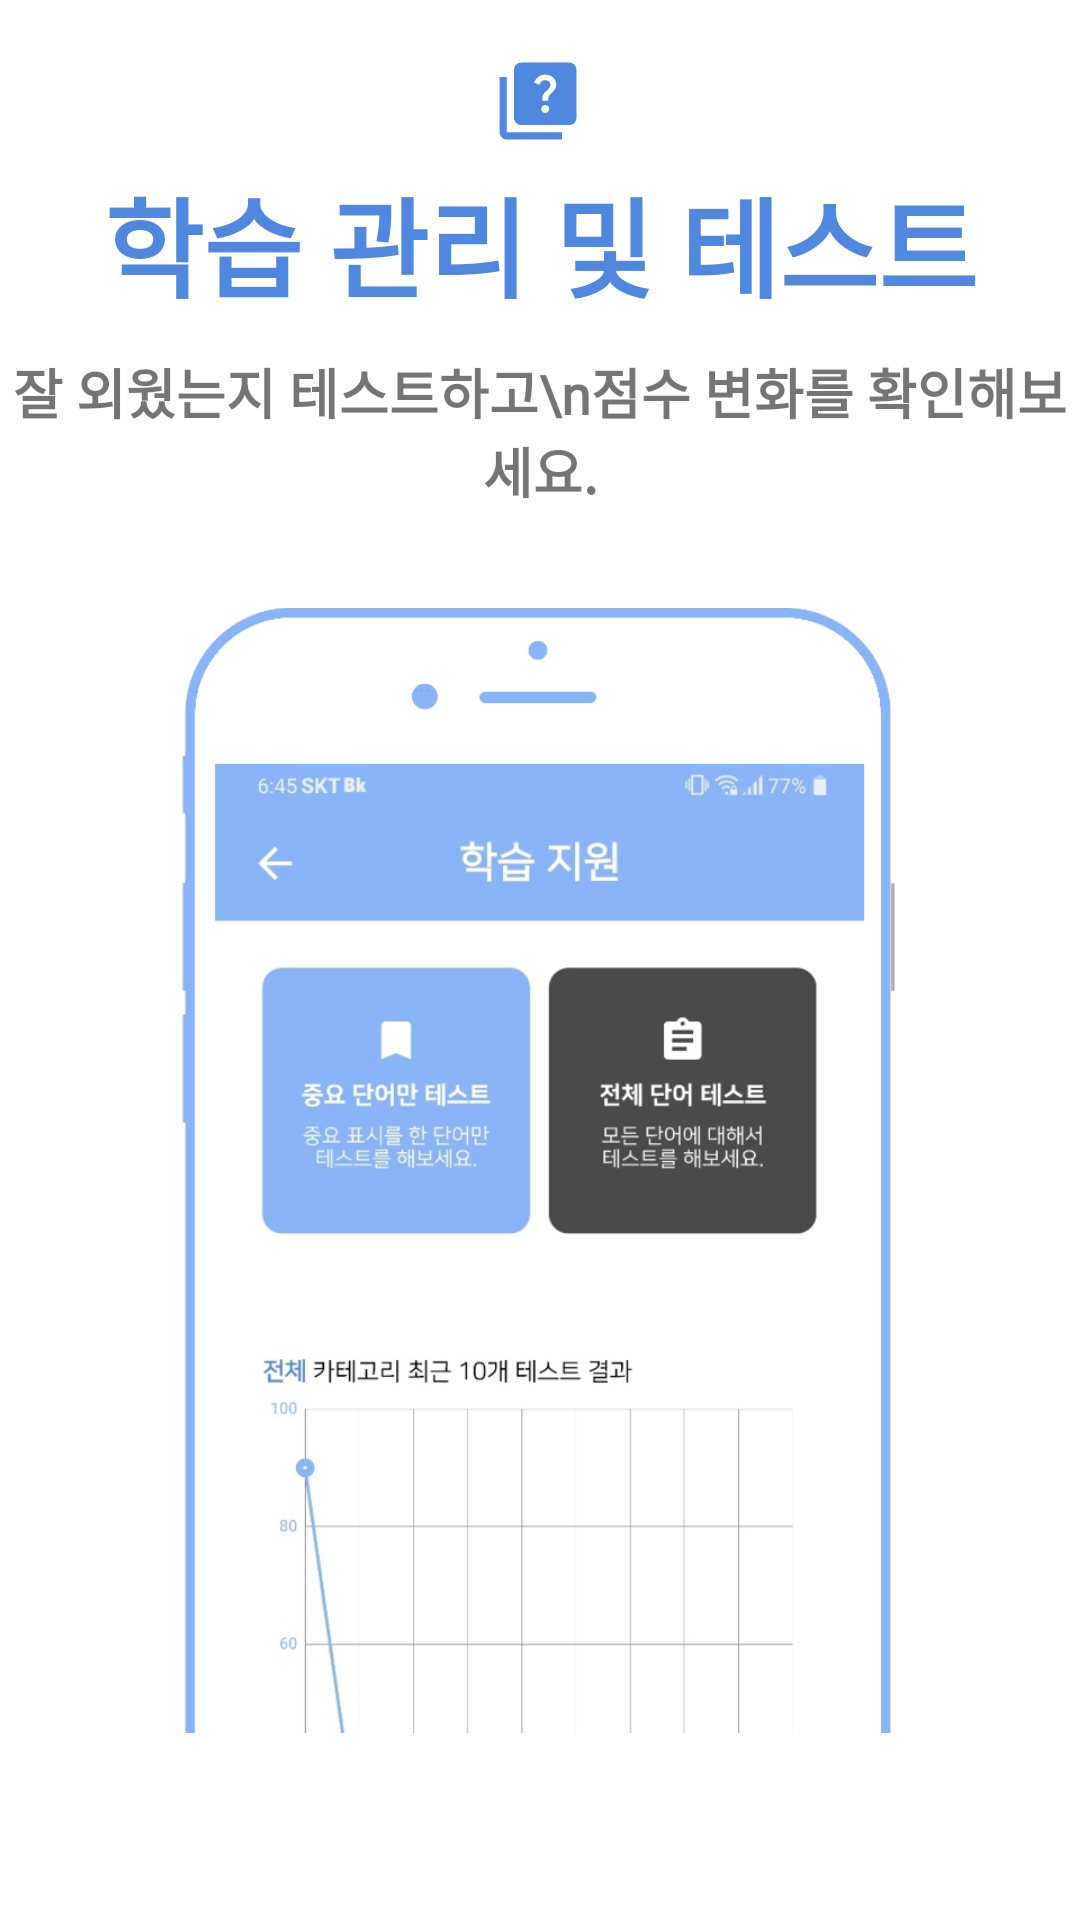

Screen size 1080 × 1920. Icon name, then its center in pixels as point (x, y):
quiz: point (538, 101)
